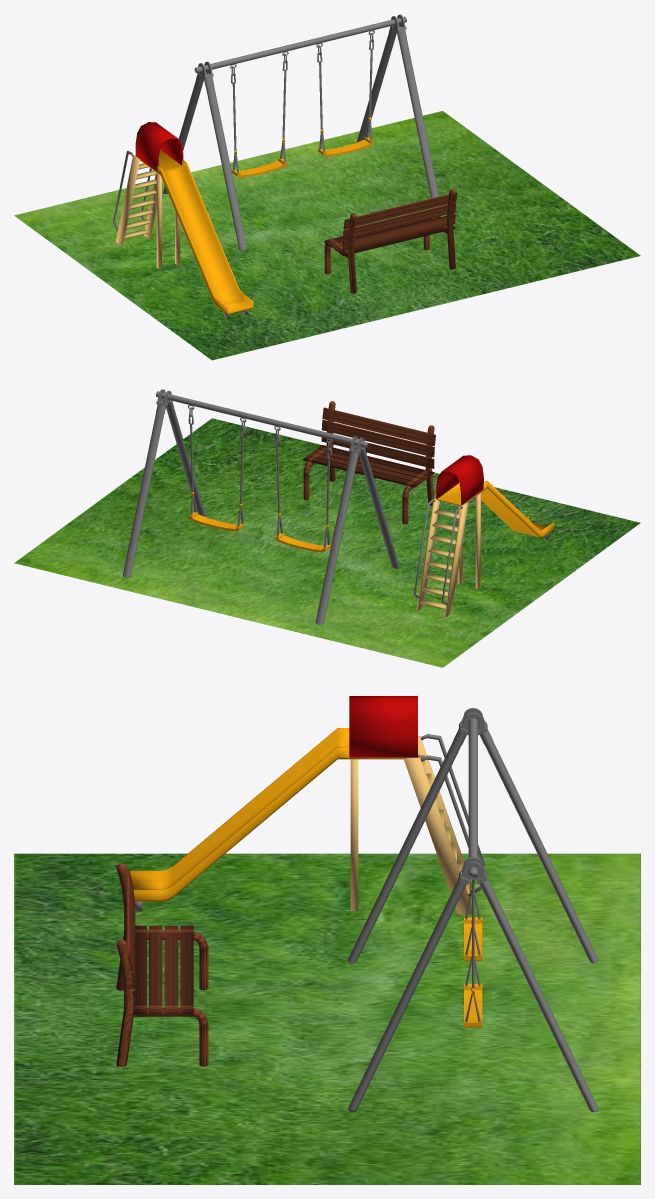
File: juegos1.obj
3 views of the same model, one above another, from view 1: azimuth 30°, elevation 25°; view 2: azimuth 150°, elevation 25°; view 3: azimuth 270°, elevation 25° (orthographic). The views are drawn at different scales.
Bounding box in the file's own units: 5 × 1.76 × 4.
